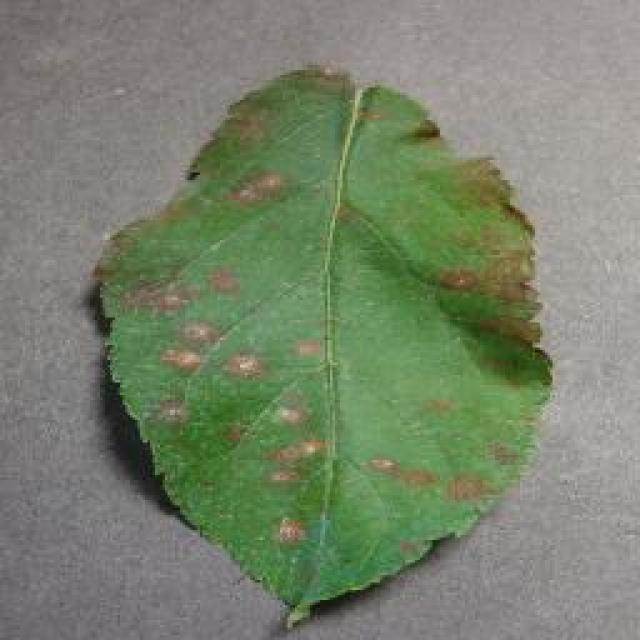apple scab disease: (87, 62, 555, 628)
